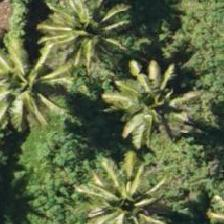coconut_tree: (107, 46, 197, 136), (43, 0, 133, 76), (0, 42, 64, 132), (82, 160, 172, 223)
